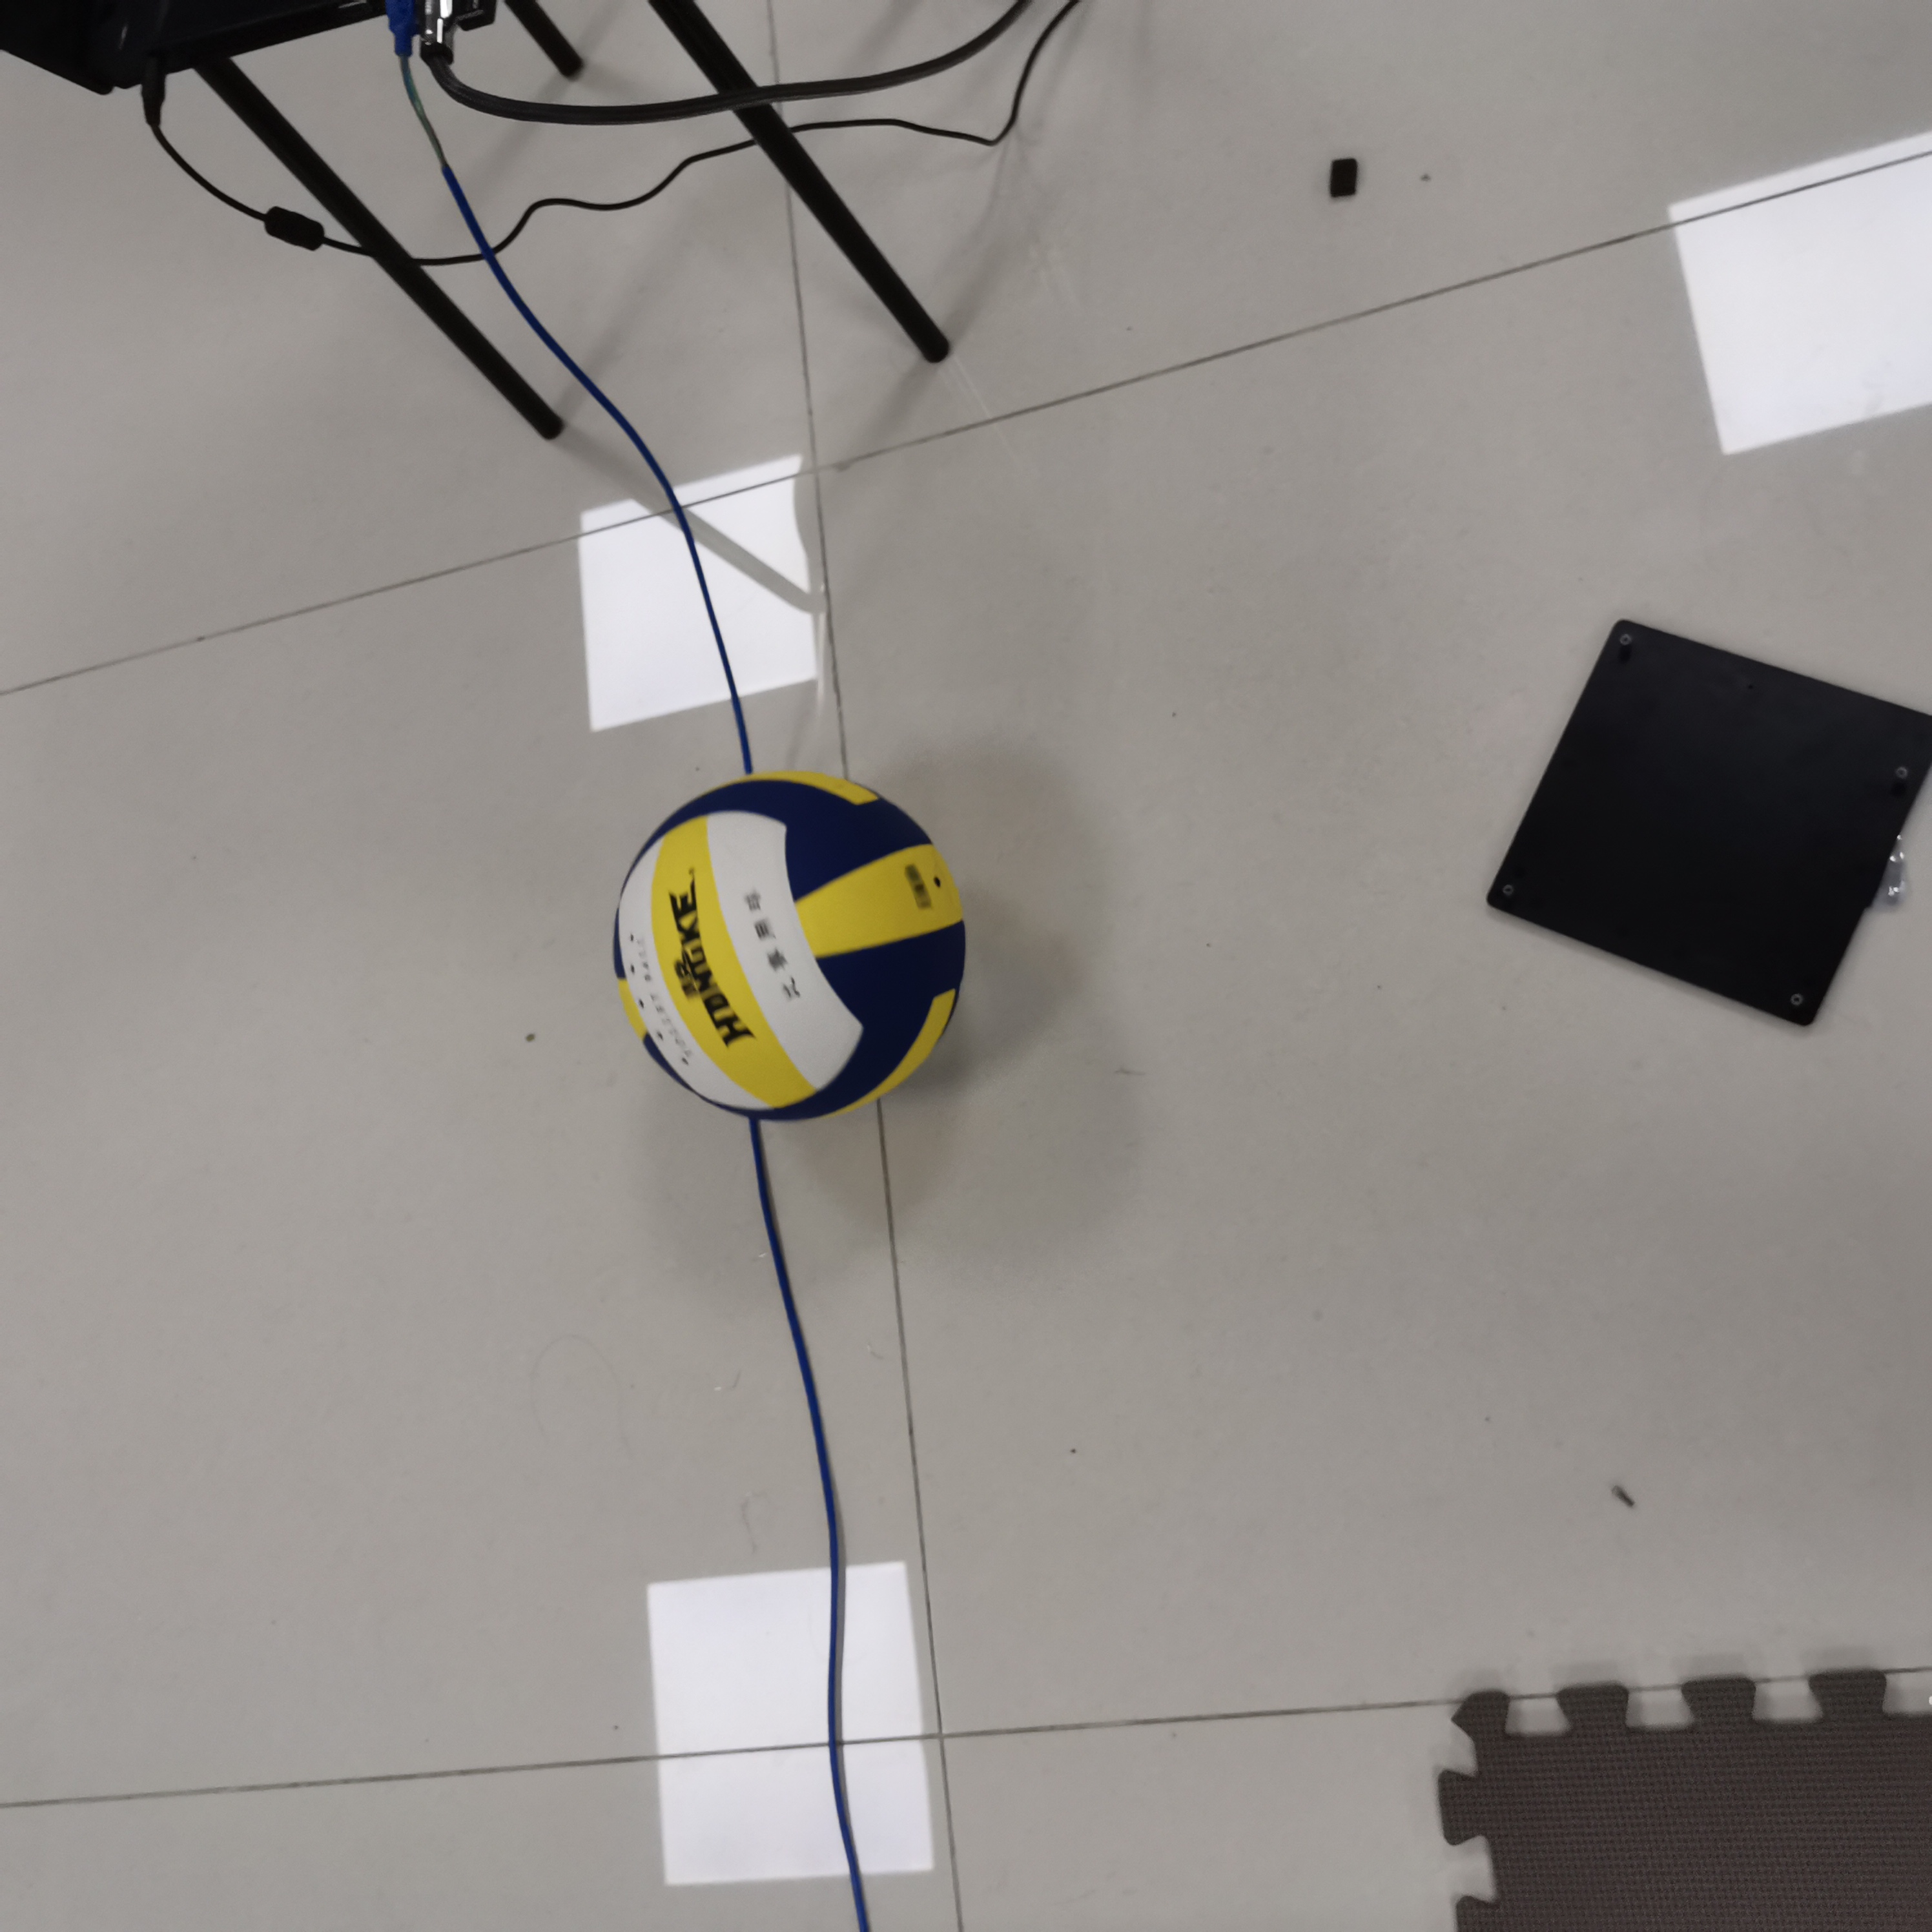volleyball: (610, 766, 973, 1123)
